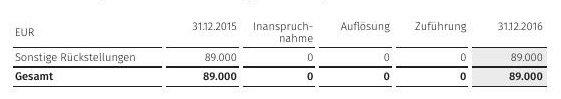table: (0, 0, 561, 99)
